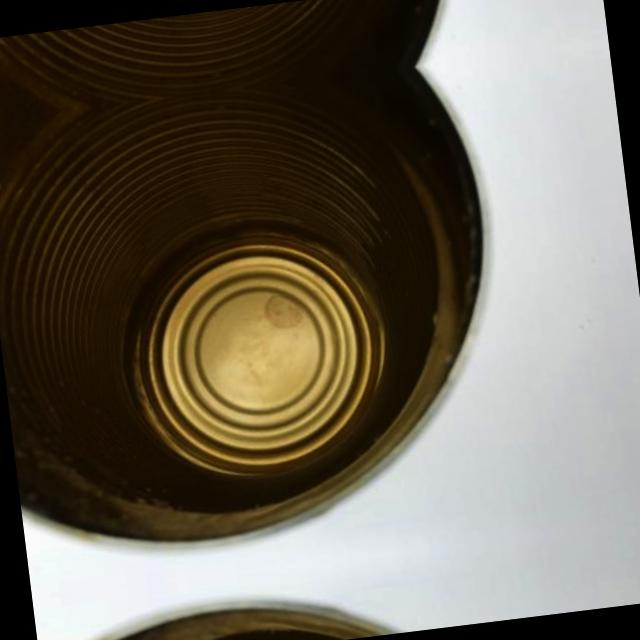Metal: (0, 57, 543, 561), (0, 0, 488, 121), (36, 569, 556, 640)
